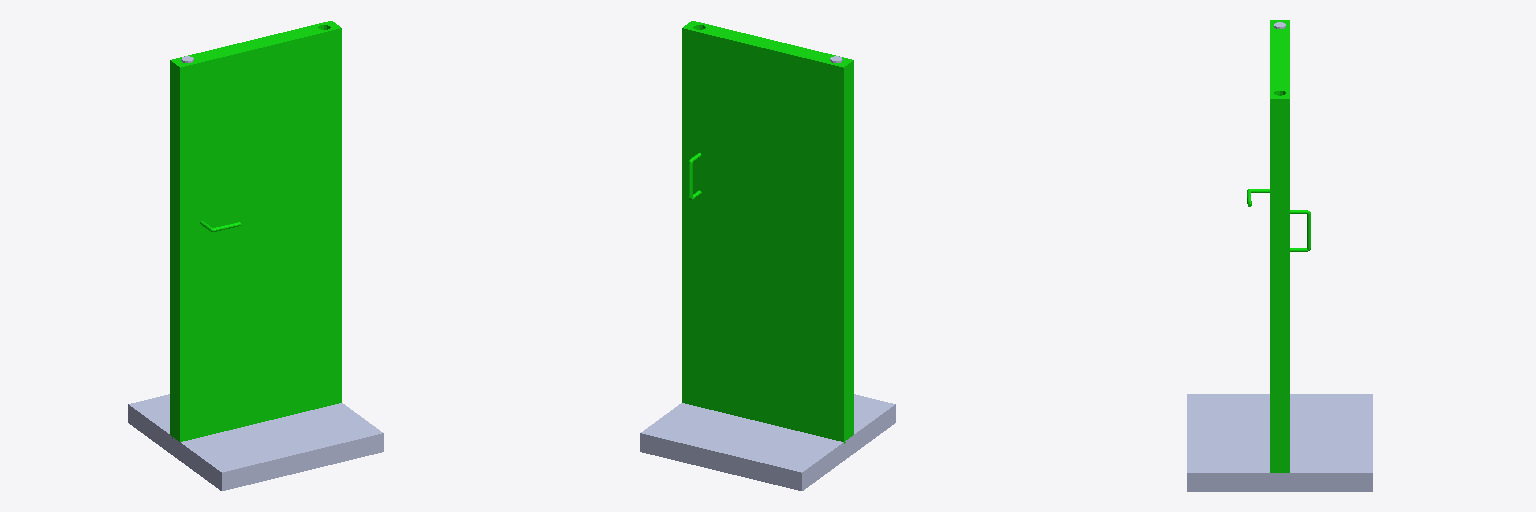
robot.urdf — door_u:
<?xml version="1.0" encoding="utf-8"?>
<!-- This URDF was automatically created by SolidWorks to URDF Exporter! Originally created by [author] ([email redacted]) 
     Commit Version: 1.6.0-1-g15f4949  Build Version: 1.6.7594.29634
     For more information, please see http://wiki.ros.org/sw_urdf_exporter -->
<robot
  name="door_u">
  <link
    name="door_base">
    <inertial>
      <origin
        xyz="0.45 0.45 0.05"
        rpy="0 0 0" />
      <mass
        value="1000" />
      <inertia
        ixx="130.249"
        ixy="-7.2974E-17"
        ixz="2.1091"
        iyy="140.012"
        iyz="1.2485E-14"
        izz="110.701" />
    </inertial>
    <visual>
      <origin
        xyz="0 0 0"
        rpy="0 0 0" />
      <geometry>
        <mesh
          filename="package://door_u/meshes/door_base.STL" />
      </geometry>
      <material
        name="">
        <color
          rgba="0.79216 0.81961 0.93333 1" />
      </material>
    </visual>
    <collision>
      <origin
        xyz="0 0 0"
        rpy="0 0 0" />
      <geometry>
        <mesh
          filename="package://door_u/meshes/door_base.STL" />
      </geometry>
    </collision>
  </link>
  <link
    name="door">
    <inertial>
      <origin
        xyz="0.45 0 0.9"
        rpy="0 0 0" />
      <mass
        value="0.01" />
      <inertia
        ixx="0.001"
        ixy="-0.0076459"
        ixz="-0.0069729"
        iyy="0.001"
        iyz="-0.0019667"
        izz="0.001" />
    </inertial>
    <visual>
      <origin
        xyz="0 0 0"
        rpy="0 0 0" />
      <geometry>
        <mesh
          filename="package://door_u/meshes/door.STL" />
      </geometry>
      <material
        name="">
        <color
          rgba="0.1 0.9 0.1 1" />
      </material>
    </visual>
    <collision>
      <origin
        xyz="0 0 0"
        rpy="0 0 0" />
      <geometry>
        <mesh
          filename="package://door_u/meshes/door.STL" />
      </geometry>
    </collision>
  </link>
  <joint
    name="door_hinge_joint"
    type="revolute">
    <origin
      xyz="0.07 0.45 0.1"
      rpy="0 0 0" />
    <parent
      link="door_base" />
    <child
      link="door" />
    <axis
      xyz="0 0 1" />
    <limit
      lower="-100000"
      upper="100000"
      effort="100"
      velocity="1000" />
  </joint>
</robot>

--- Render facts (derived) ---
Views: 3 orthographic renders of the robot side by side, from view 1: azimuth 30°, elevation 25°; view 2: azimuth 150°, elevation 25°; view 3: azimuth 270°, elevation 25°.
Robot: door_u — 2 links, 1 joints (1 revolute); root link door_base; default pose: all joints at 0.
Visible links, largest first — view 1: door, door_base; view 2: door, door_base; view 3: door_base, door.
Link boxes in pixels (box(x1,y1,x2,y2)): door: box(170, 21, 341, 441); door_base: box(128, 56, 383, 490); door: box(682, 21, 853, 443); door_base: box(640, 56, 895, 490); door_base: box(1187, 22, 1372, 491); door: box(1247, 20, 1310, 472).
Size in the robot's own frame: 0.9 by 0.9 by 2.1 metres.
2 mesh visuals loaded from 2 distinct referenced files (2 binary STL).